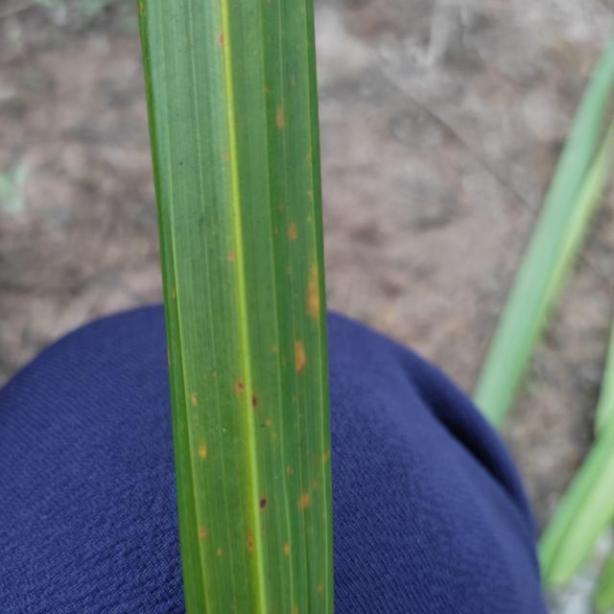nitrogen: (134, 0, 336, 614)
